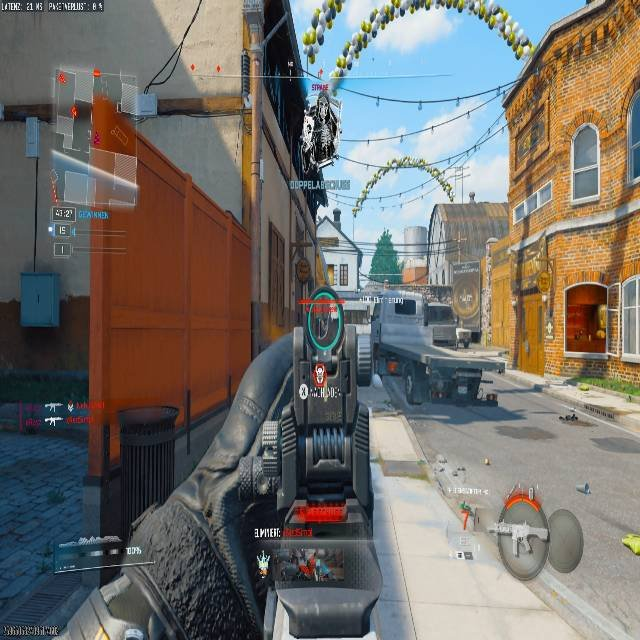player: (300, 281, 338, 354)
